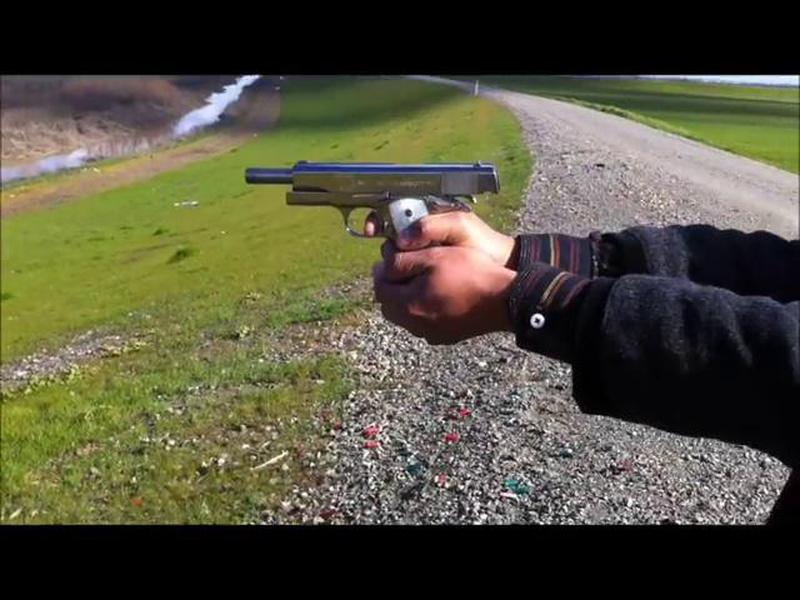Pistola: (203, 132, 527, 307)
